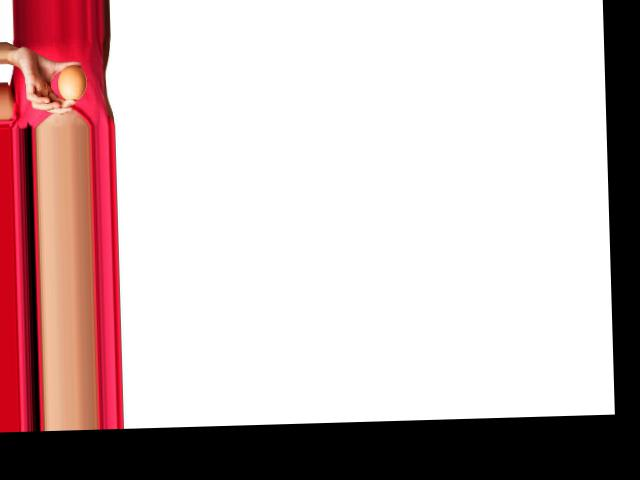egg: (57, 65, 86, 101)
